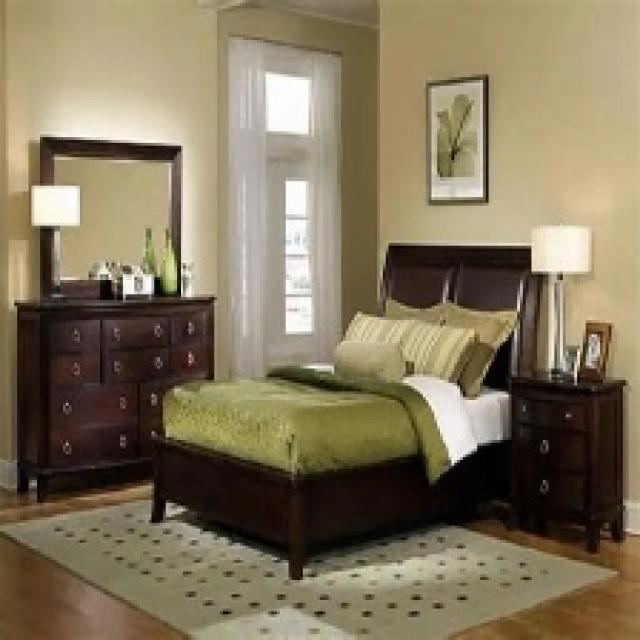Bed: (149, 240, 537, 577)
